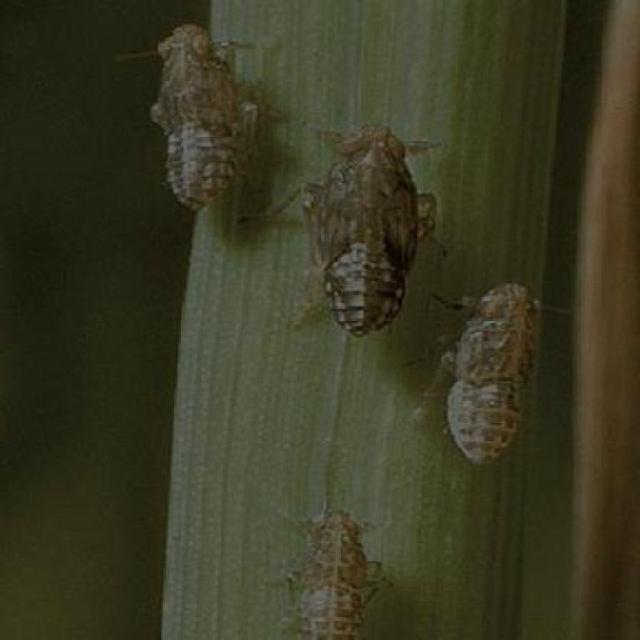brown-planthopper: (311, 121, 423, 333), (440, 276, 542, 464), (145, 26, 244, 208), (286, 506, 374, 640)
